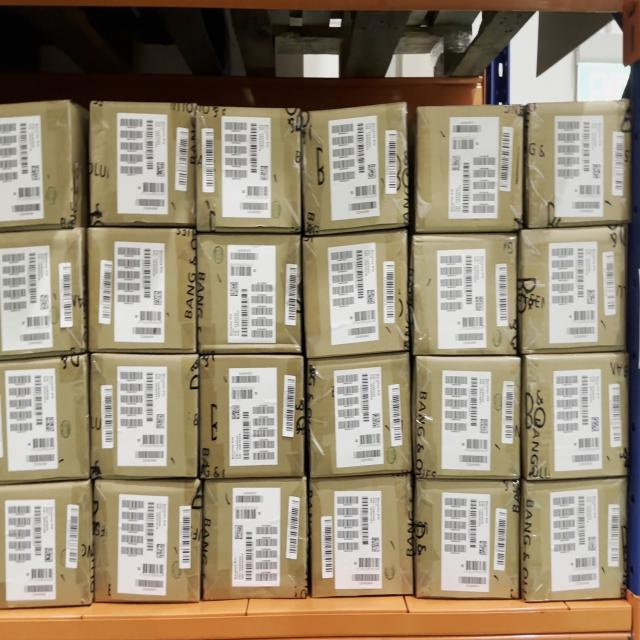box: (520, 229, 628, 352), (90, 355, 198, 477), (89, 228, 195, 351), (530, 103, 630, 226), (418, 112, 520, 230), (200, 109, 300, 229), (304, 112, 406, 229), (94, 103, 190, 224), (417, 483, 519, 596), (203, 357, 302, 472), (418, 361, 518, 474), (97, 488, 200, 597), (527, 361, 627, 473), (198, 238, 300, 346), (207, 487, 307, 596), (416, 238, 514, 348), (309, 240, 406, 351), (526, 488, 624, 594), (315, 480, 410, 589), (312, 364, 409, 470)
